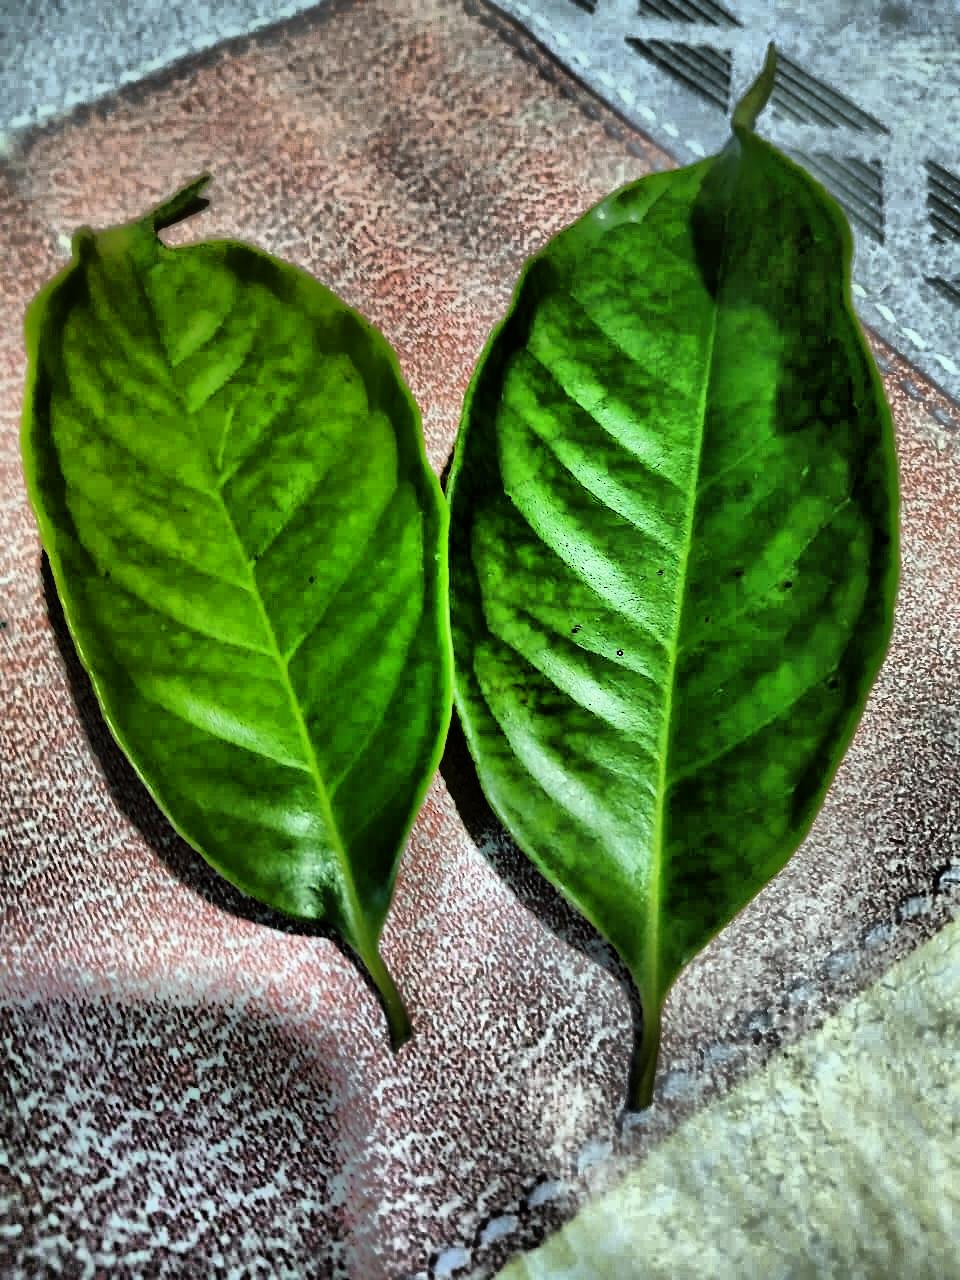daun salam: (450, 55, 895, 1104), (23, 178, 452, 1039)
